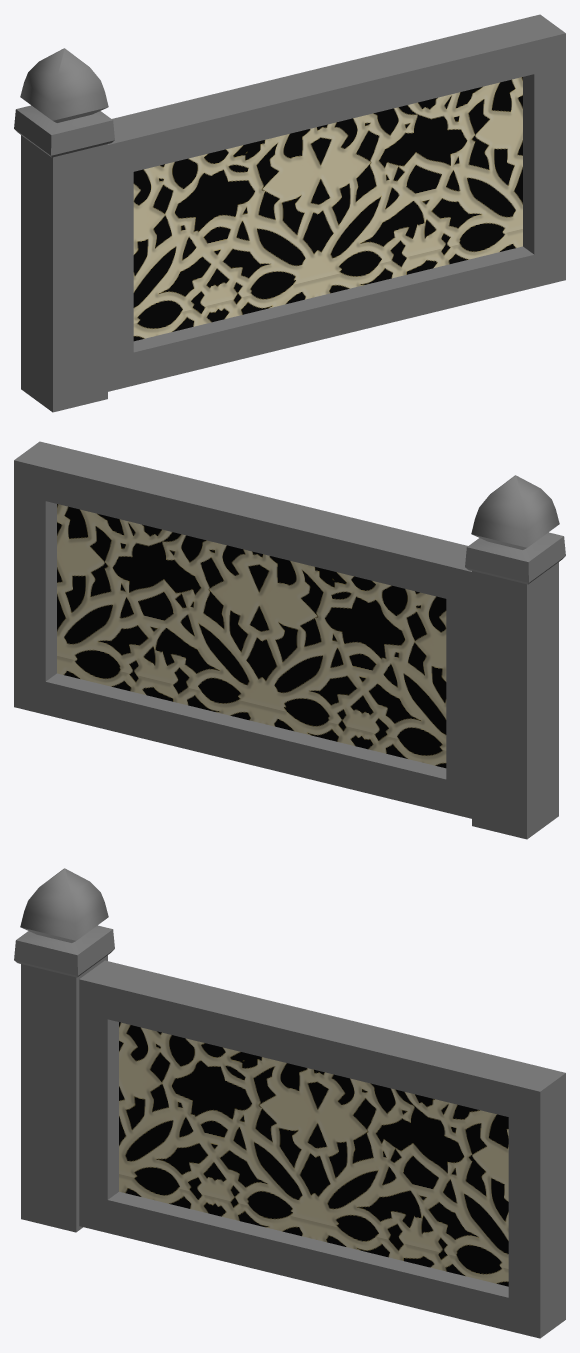
The model's file is SM_railing_01.fbx.
3 renders of one model, top to bottom at view 1: azimuth 30°, elevation 25°; view 2: azimuth 150°, elevation 25°; view 3: azimuth 330°, elevation 25°, orthographic.
Parts seen in each view (by area): view 1: Object32879; view 2: Object32879; view 3: Object32879.
Part boxes in pixels (<box>): Object32879: <box>14,14,565,412</box>; Object32879: <box>14,441,565,839</box>; Object32879: <box>14,868,565,1338</box>.
Bounding box in the file's own units: 75.42 × 47.8 × 9.28.
